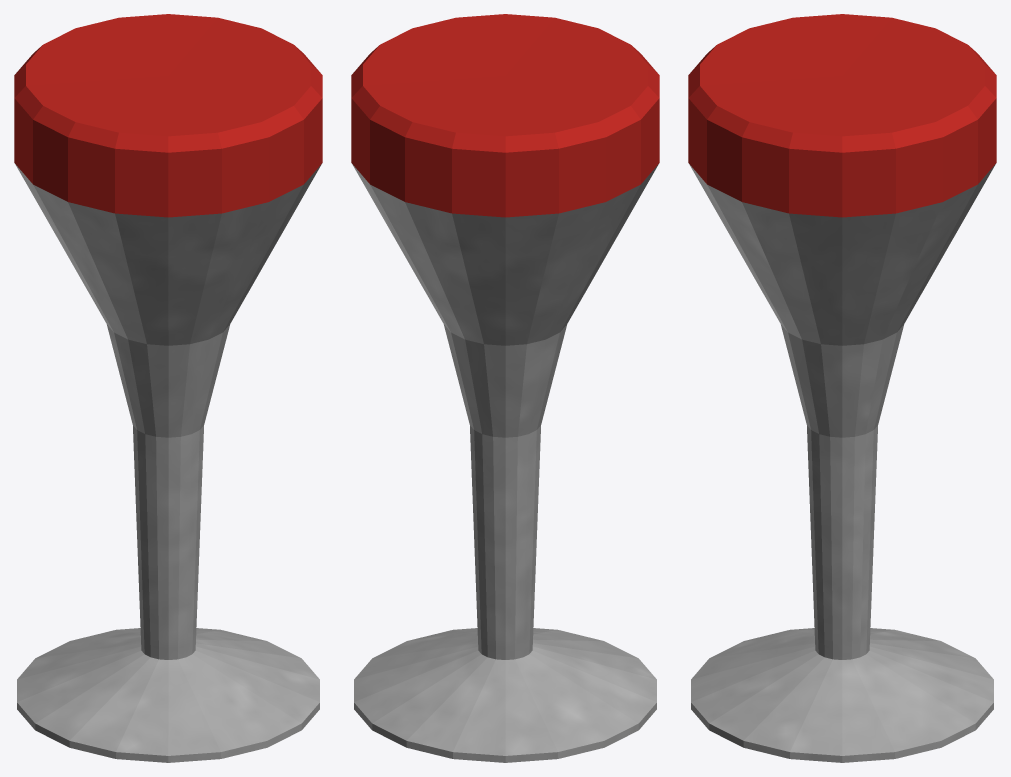
Rendered from P_Stool.fbx.
The picture shows the model from 3 angles, left to right: view 1: azimuth 30°, elevation 25°; view 2: azimuth 150°, elevation 25°; view 3: azimuth 270°, elevation 25°; orthographic projection.
Parts seen in each view (by area): view 1: Empty_Mesh; view 2: Empty_Mesh; view 3: Empty_Mesh.
Boxes of the visible parts, bbox=[...] form: Empty_Mesh: bbox=[14, 14, 322, 762]; Empty_Mesh: bbox=[351, 14, 659, 762]; Empty_Mesh: bbox=[688, 14, 996, 762].
Size of the model in its own units: 0.4064 by 0.8928 by 0.4003.
